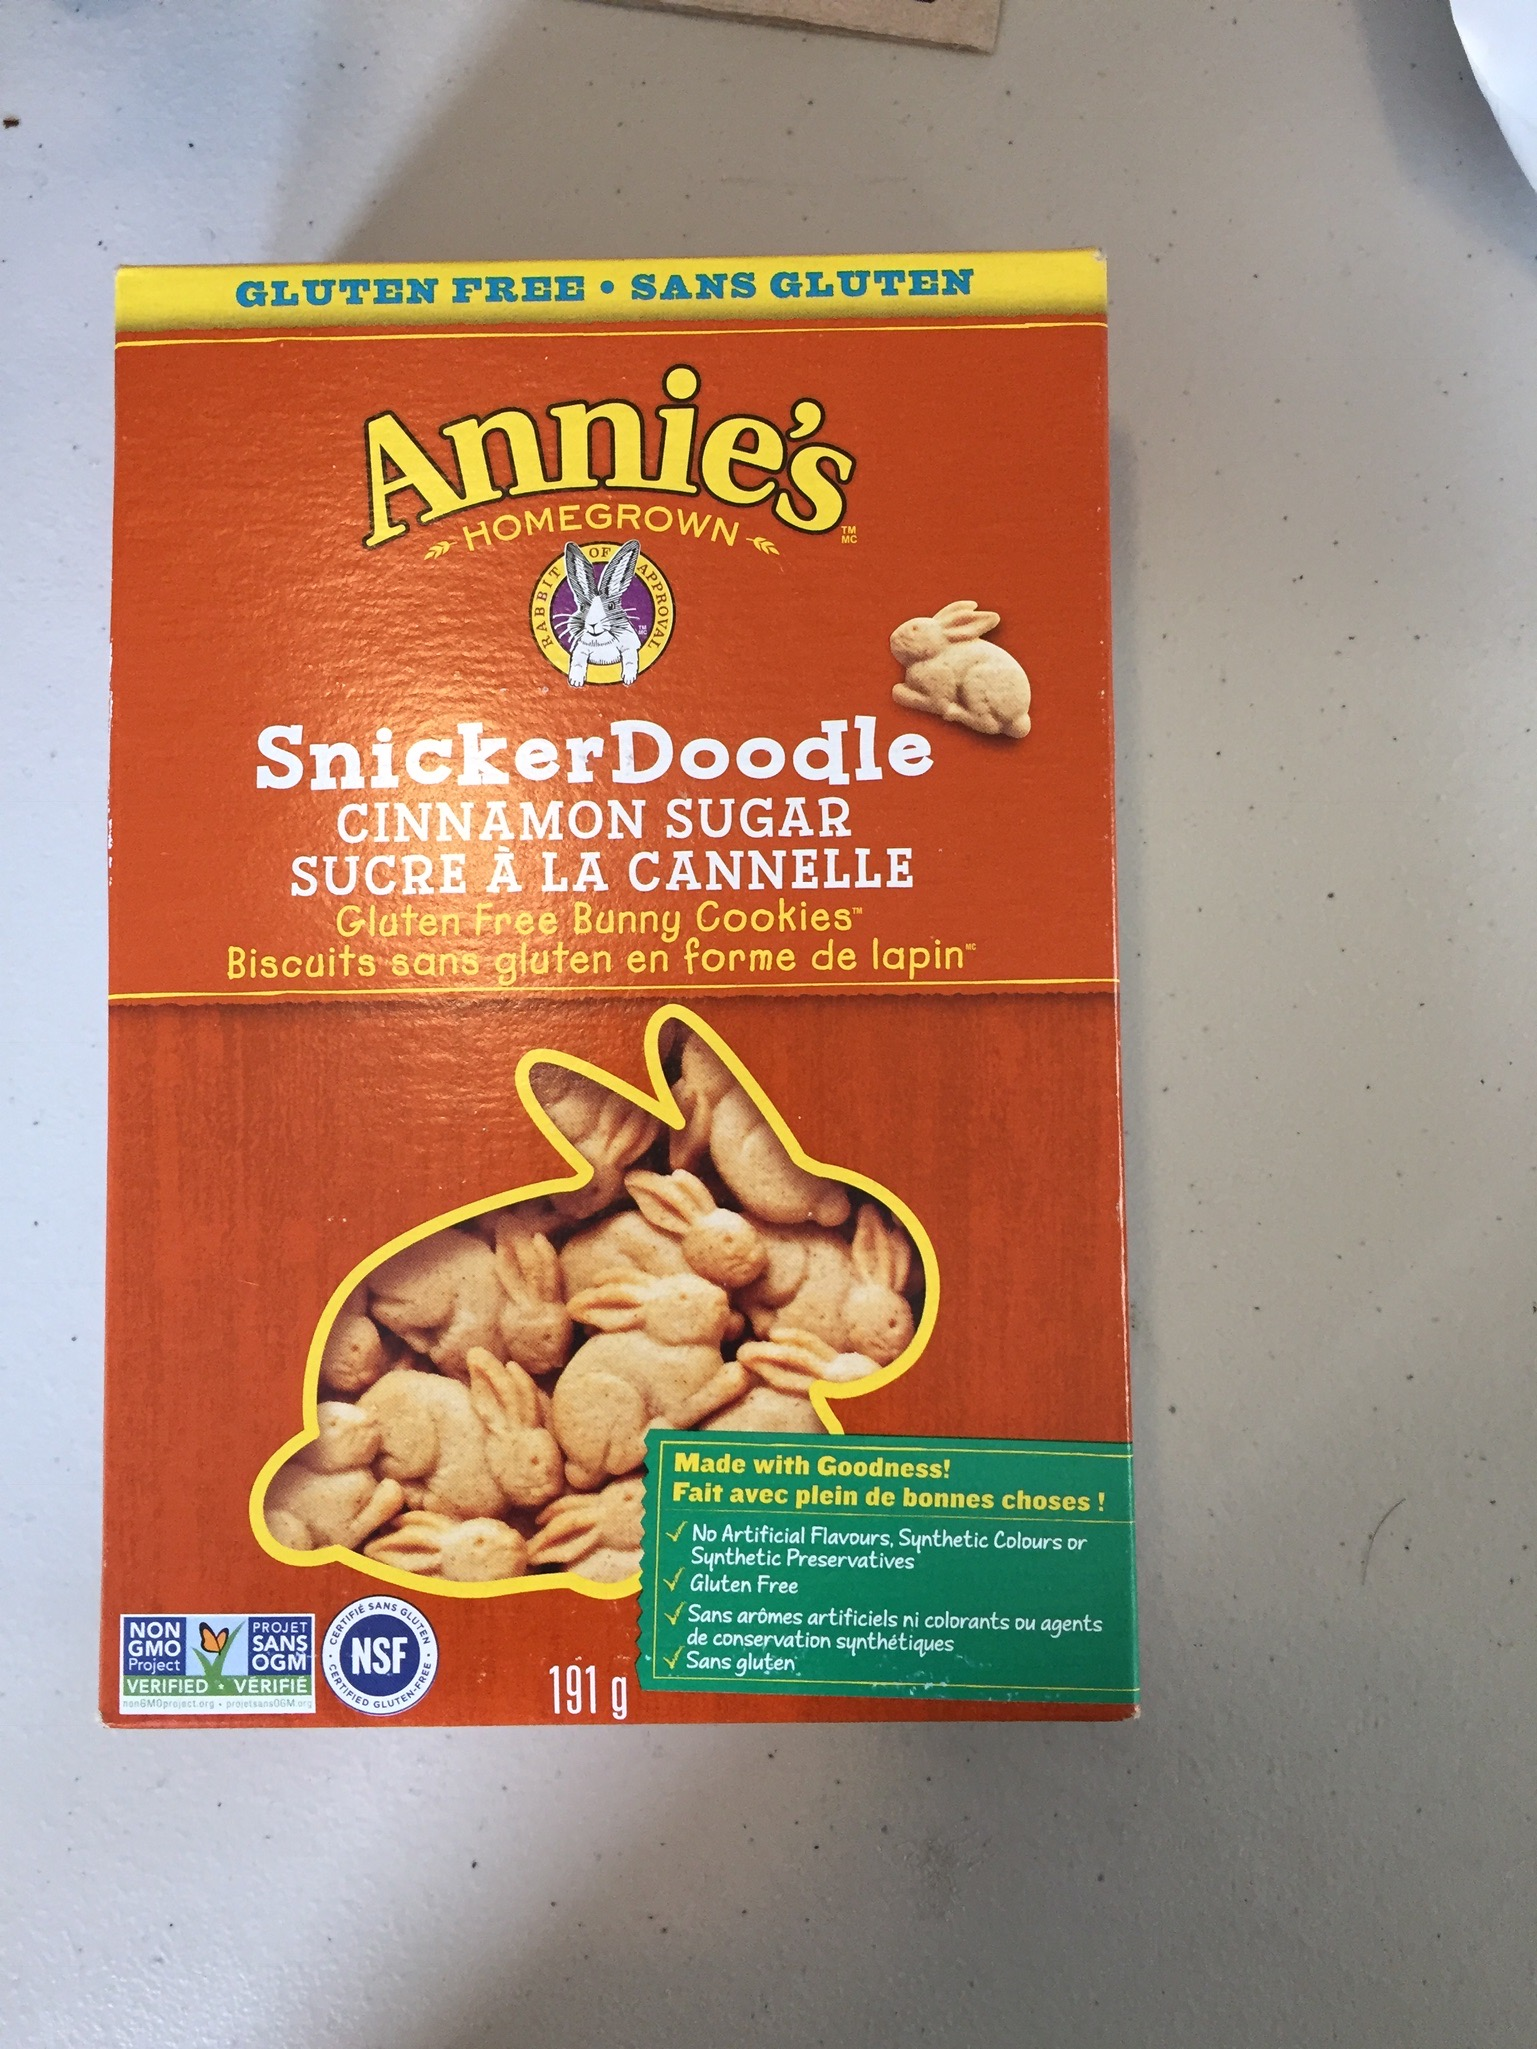annies_snickerdoodle_cinnamon_sugar: (124, 278, 1117, 1716)
